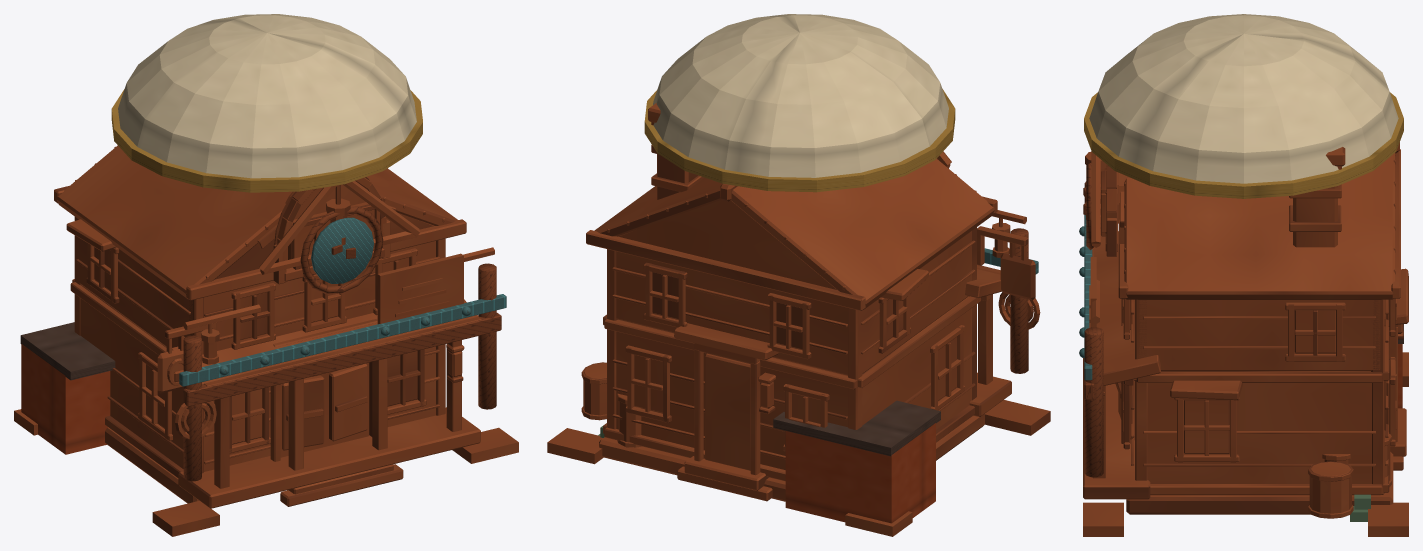
File: tavern.e9.glb
3 views of the same model, side by side, from view 1: azimuth 30°, elevation 25°; view 2: azimuth 150°, elevation 25°; view 3: azimuth 270°, elevation 25° (orthographic). The views are drawn at different scales.
Parts seen in each view (by area): view 1: TavernE9DomeCommons; view 2: TavernE9DomeCommons; view 3: TavernE9DomeCommons.
Part boxes in pixels (bbox=[...]): TavernE9DomeCommons: bbox=[14, 14, 518, 536]; TavernE9DomeCommons: bbox=[547, 14, 1050, 536]; TavernE9DomeCommons: bbox=[1079, 14, 1408, 536].
Bounding box in the file's own units: 4.23 × 4.72 × 3.39.
Materials: 1 (1 with a texture image).
